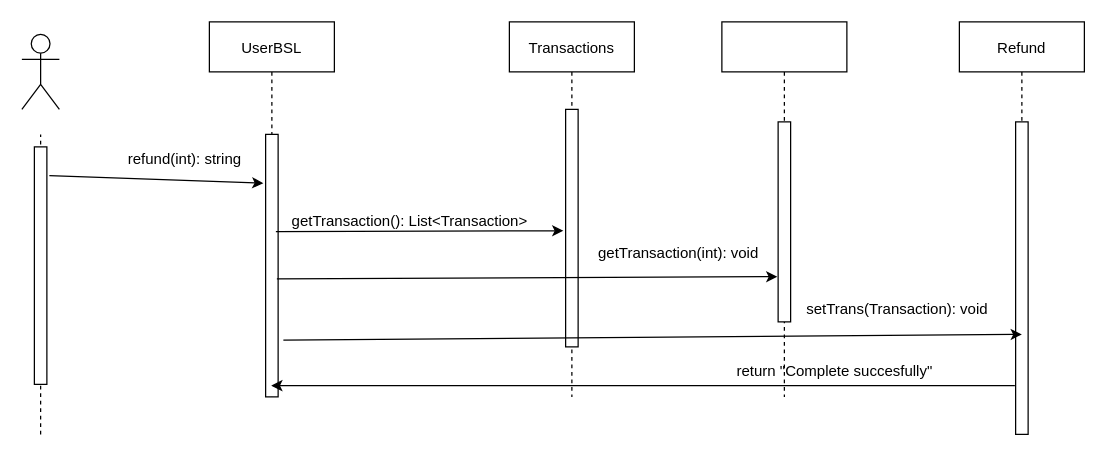
The diagram is 1106 pixels wide and 458 high, and some of its shapes have lost their labels. Each missing label, with the box of its shape:
Transaction: (721, 21, 847, 397)
User: (21, 33, 59, 109)
